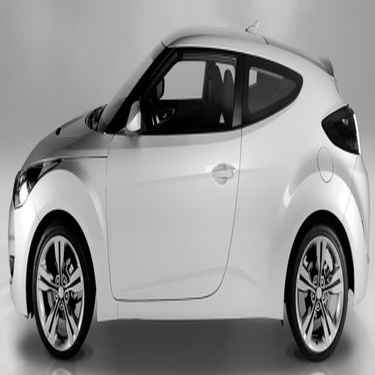car: (1, 16, 369, 362)
